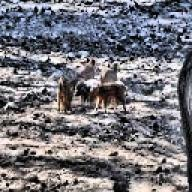boar: (175, 40, 192, 191)
